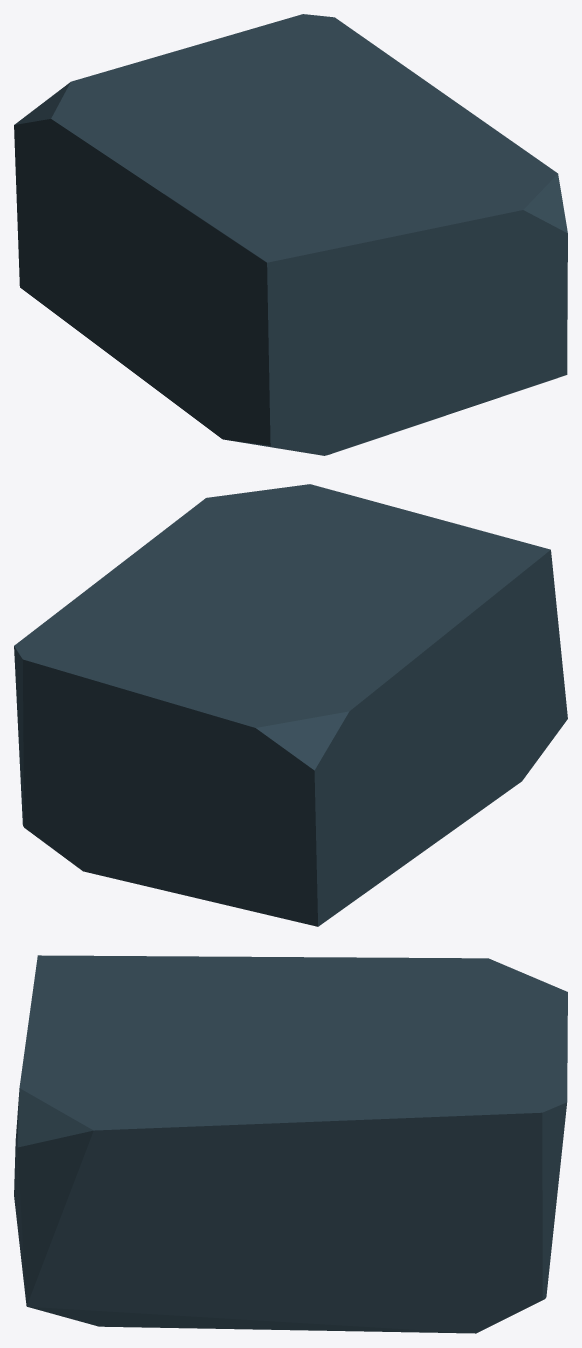
The model's file is loose_stone_medium.fbx.
3 renders of one model, top to bottom at view 1: azimuth 30°, elevation 25°; view 2: azimuth 150°, elevation 25°; view 3: azimuth 270°, elevation 25°, orthographic. The views are drawn at different scales.
Parts seen in each view (by area): view 1: loose_stone_medium; view 2: loose_stone_medium; view 3: loose_stone_medium.
Part boxes in pixels (x1=…): loose_stone_medium: x1=14, y1=14, x2=567, y2=455; loose_stone_medium: x1=14, y1=484, x2=567, y2=926; loose_stone_medium: x1=14, y1=955, x2=567, y2=1333.
Size of the model in its own units: 82.03 by 51.95 by 111.
